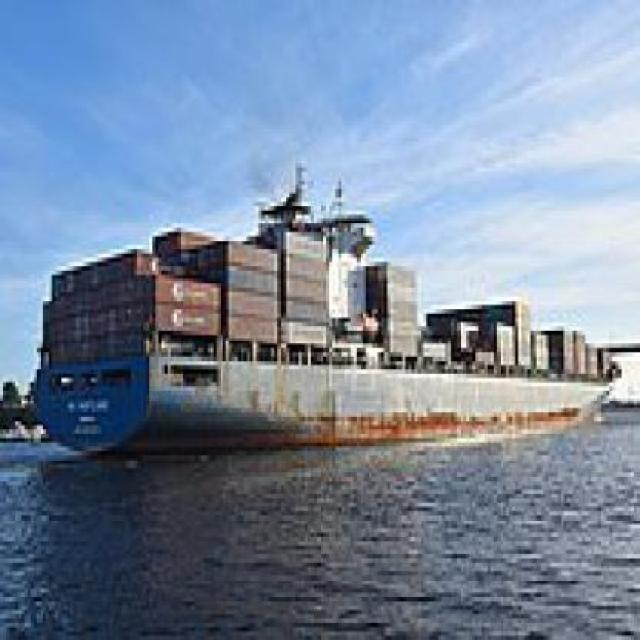container: (26, 147, 629, 470)
